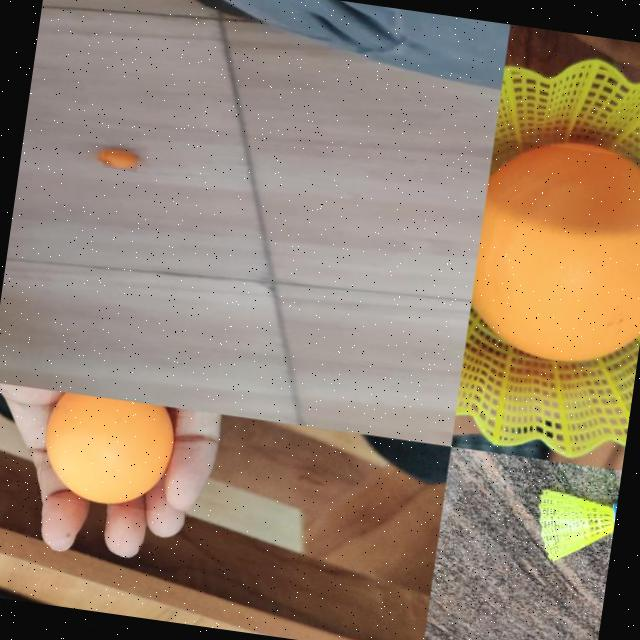ping-pong-ball: (463, 135, 640, 373), (36, 391, 180, 512), (102, 148, 140, 172)
